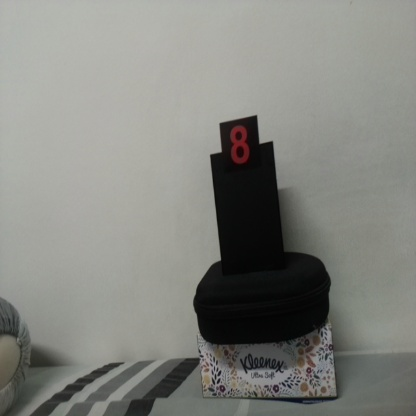id_8: (219, 122, 261, 180)
